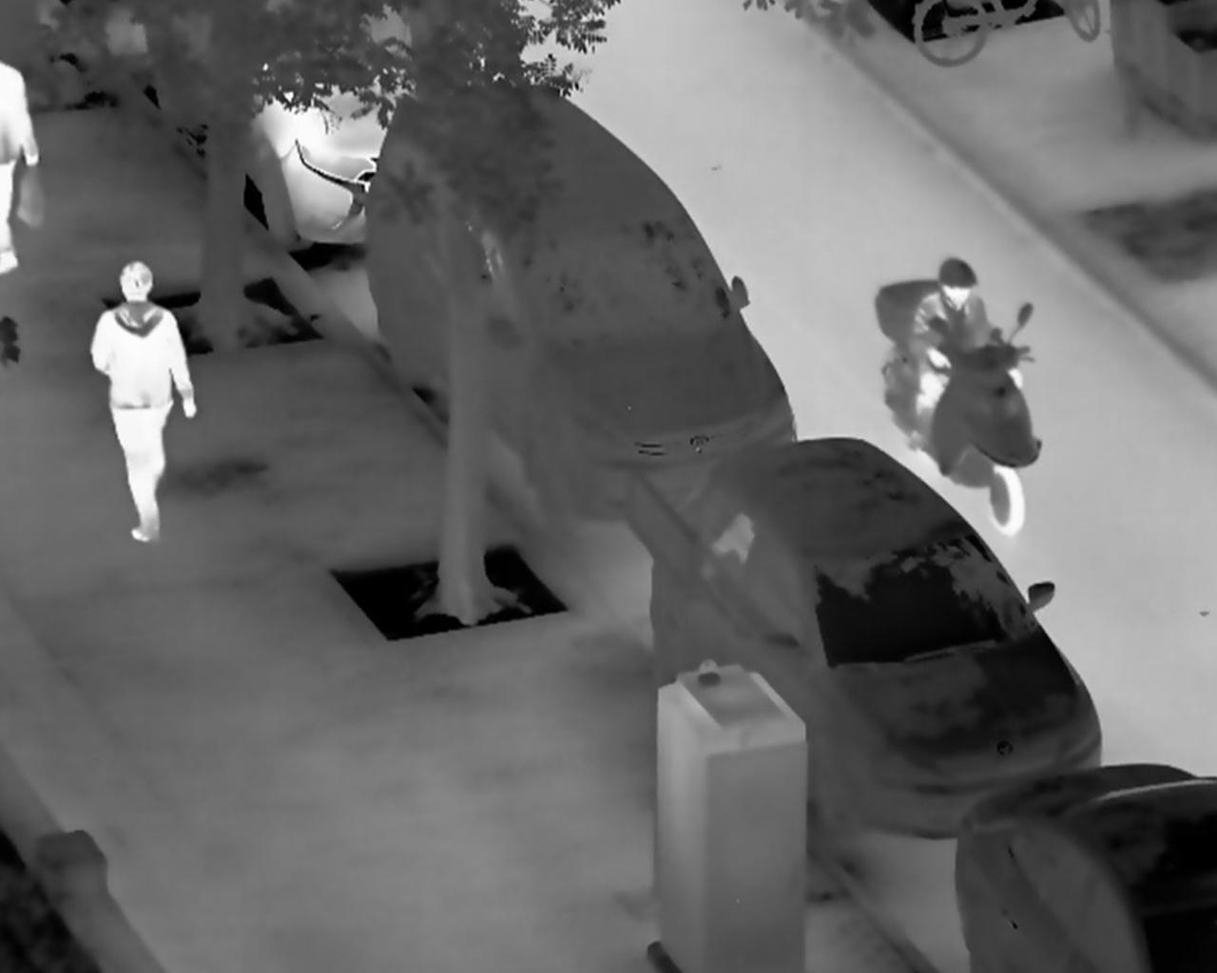person: (87, 260, 199, 546), (905, 256, 1023, 466)
